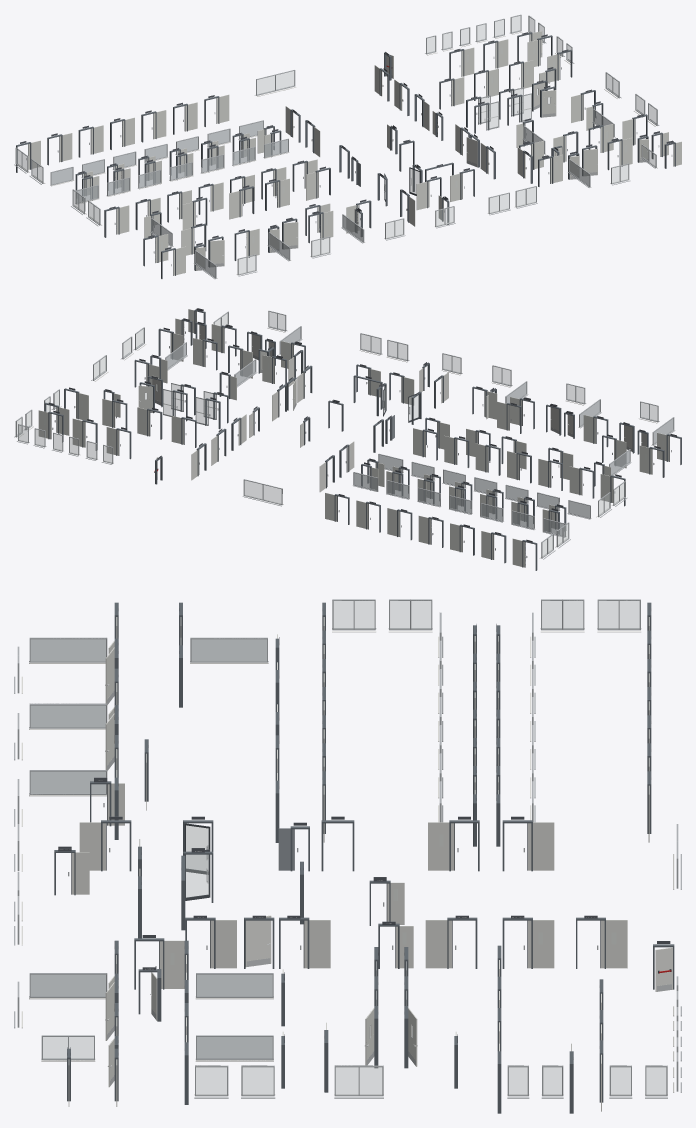
Rendered from 26_n2_puertas.glb.
The picture shows the model from 3 angles, top to bottom: view 1: azimuth 30°, elevation 25°; view 2: azimuth 150°, elevation 25°; view 3: azimuth 270°, elevation 25°; orthographic projection. The views are drawn at different scales.
Parts seen in each view (by area): view 1: Ventana N2 · 126, Puerta N2 · 74, Puerta N2 · 16, Puerta N2 · 08, Puerta N2 · 01, Puerta N2 · 47, Puerta N2 · 30, Puerta N2 · 29, Puerta N2 · 65, Puerta N2 · 31, Puerta N2 · 13, Puerta N2 · 46 (+26 smaller); view 2: Ventana N2 · 126, Puerta N2 · 17, Puerta N2 · 32, Puerta N2 · 05, Puerta N2 · 78, Puerta N2 · 21, Puerta N2 · 00, Puerta N2 · 04, Puerta N2 · 69, Puerta N2 · 16, Puerta N2 · 83, Puerta N2 · 79 (+27 smaller); view 3: Ventana N2 · 113, Ventana N2 · 114, Ventana N2 · 118, Ventana N2 · 112, Ventana N2 · 117, Ventana N2 · 116, Ventana N2 · 115, Ventana N2 · 130, Puerta N2 · 89, Puerta N2 · 87, Puerta N2 · 91, Puerta N2 · 52 (+23 smaller).
Part boxes in pixels (bbox=[...]): Ventana N2 · 126: bbox=[255, 70, 296, 96]; Puerta N2 · 74: bbox=[540, 86, 556, 117]; Puerta N2 · 16: bbox=[141, 110, 166, 142]; Puerta N2 · 08: bbox=[78, 125, 103, 157]; Puerta N2 · 01: bbox=[104, 205, 129, 237]; Puerta N2 · 47: bbox=[229, 186, 254, 219]; Puerta N2 · 30: bbox=[234, 228, 259, 260]; Puerta N2 · 29: bbox=[208, 236, 224, 267]; Puerta N2 · 65: bbox=[607, 138, 632, 170]; Puerta N2 · 31: bbox=[282, 218, 298, 249]; Puerta N2 · 13: bbox=[198, 182, 223, 214]; Puerta N2 · 46: bbox=[182, 197, 207, 229]; Ventana N2 · 126: bbox=[242, 479, 283, 506]; Puerta N2 · 17: bbox=[475, 443, 500, 475]; Puerta N2 · 32: bbox=[639, 445, 664, 477]; Puerta N2 · 05: bbox=[569, 466, 594, 498]; Puerta N2 · 78: bbox=[137, 407, 162, 439]; Puerta N2 · 21: bbox=[444, 435, 469, 467]; Puerta N2 · 00: bbox=[512, 538, 537, 570]; Puerta N2 · 04: bbox=[481, 531, 506, 563]; Puerta N2 · 69: bbox=[195, 397, 220, 429]; Puerta N2 · 16: bbox=[387, 508, 412, 540]; Puerta N2 · 83: bbox=[72, 418, 97, 450]; Puerta N2 · 79: bbox=[102, 398, 127, 430]; Ventana N2 · 113: bbox=[29, 637, 107, 663]; Ventana N2 · 114: bbox=[29, 703, 107, 729]; Ventana N2 · 118: bbox=[29, 973, 107, 999]; Ventana N2 · 112: bbox=[190, 637, 268, 663]; Ventana N2 · 117: bbox=[195, 1035, 273, 1061]; Ventana N2 · 116: bbox=[195, 973, 273, 999]; Ventana N2 · 115: bbox=[29, 770, 107, 796]; Ventana N2 · 130: bbox=[334, 1065, 383, 1098]; Puerta N2 · 89: bbox=[502, 820, 554, 871]; Puerta N2 · 87: bbox=[425, 917, 477, 968]; Puerta N2 · 91: bbox=[502, 917, 554, 968]; Puerta N2 · 52: bbox=[279, 917, 330, 968].
Bounding box in the file's own units: 50.11 × 2.65 × 30.11.
Materials: 16 (1 with a texture image).
